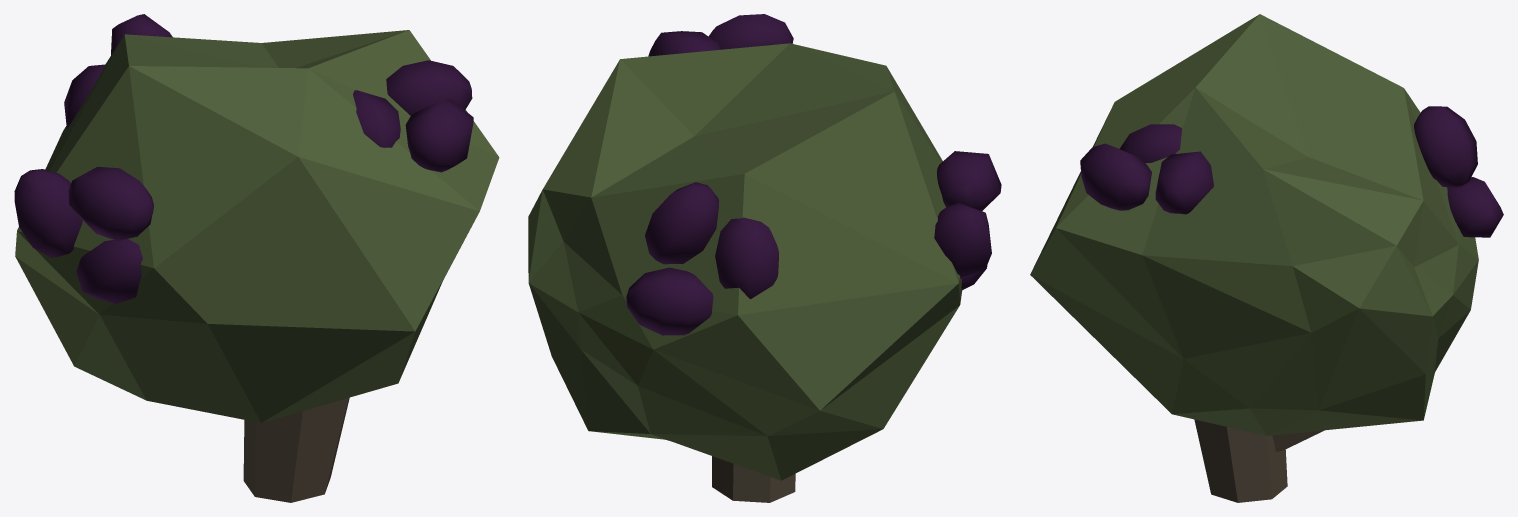
Rendered from Bushes D, 2B.fbx.
3 renders of one model, left to right at view 1: azimuth 30°, elevation 25°; view 2: azimuth 150°, elevation 25°; view 3: azimuth 270°, elevation 25°, orthographic. The views are drawn at different scales.
Parts seen in each view (by area): view 1: Icosphere.005; view 2: Icosphere.005; view 3: Icosphere.005.
Part boxes in pixels (x1,y1,x2,y2): Icosphere.005: (14, 14, 499, 502); Icosphere.005: (528, 14, 1001, 502); Icosphere.005: (1030, 14, 1503, 502).
Bounding box in the file's own units: 456 × 457 × 483.
